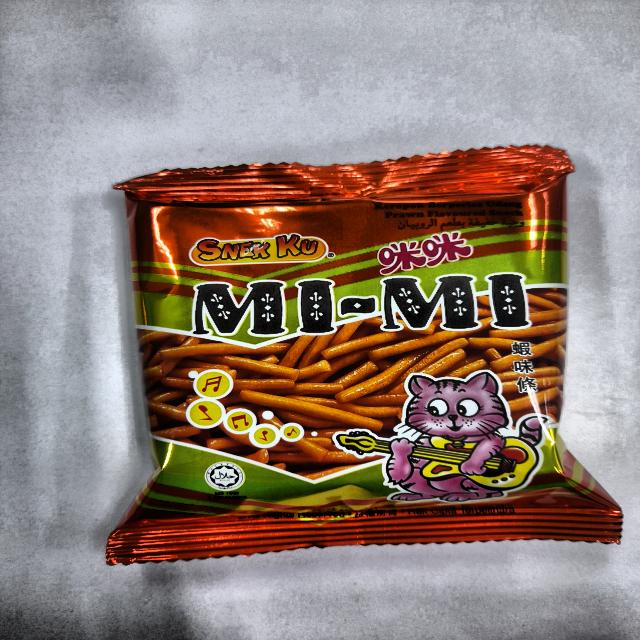Plastic: (123, 174, 612, 542)
